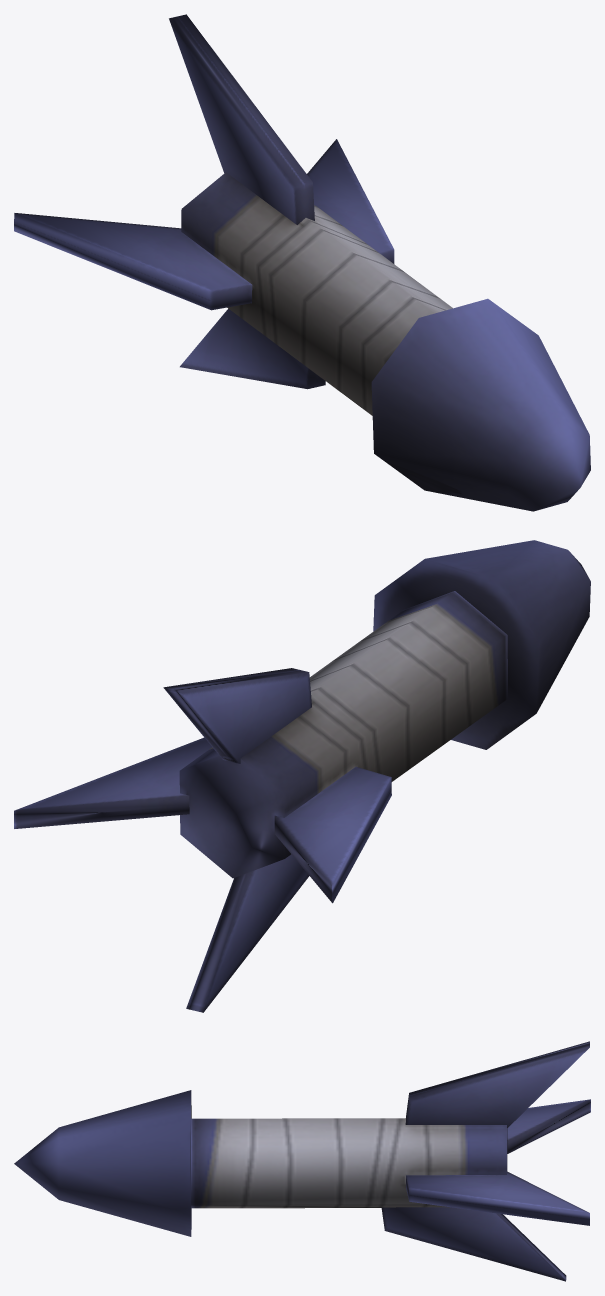
File: Missile01.fbx
The picture shows the model from 3 angles, top to bottom: view 1: azimuth 30°, elevation 25°; view 2: azimuth 150°, elevation 25°; view 3: azimuth 270°, elevation 25°; orthographic projection. The views are drawn at different scales.
Parts seen in each view (by area): view 1: Missile; view 2: Missile; view 3: Missile.
Part boxes in pixels (box(x1,y1,x2,y2)): Missile: box(14, 14, 590, 511); Missile: box(14, 540, 590, 1012); Missile: box(14, 1041, 590, 1281).
Size of the model in its own units: 2.17 by 2.16 by 4.77.
